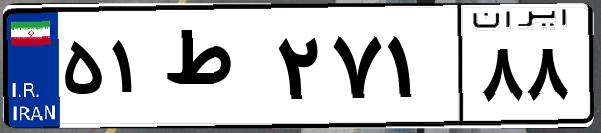1: (385, 28, 445, 110), (110, 28, 158, 98)
2: (270, 28, 330, 110)
5: (57, 26, 110, 100)
7: (330, 28, 385, 110)
8: (475, 38, 525, 113), (525, 38, 570, 115)
ط: (158, 20, 270, 120)
